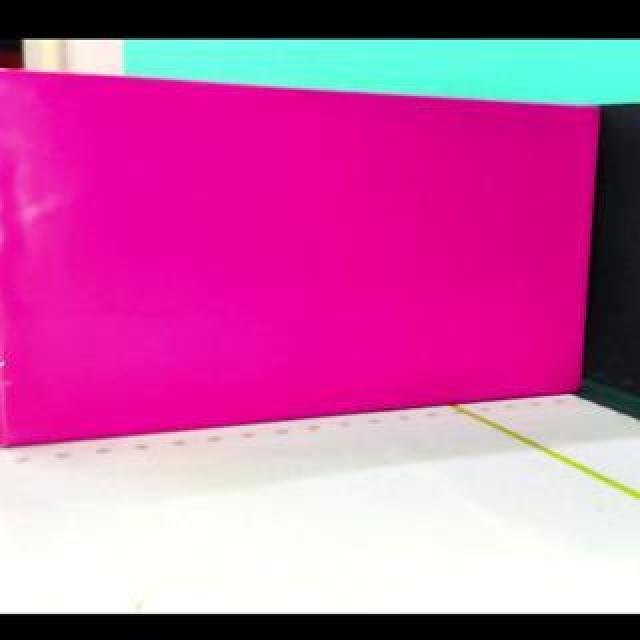xparking: (2, 75, 597, 447)
